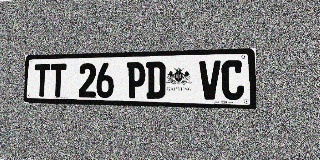2: (79, 63, 96, 98)
6: (96, 62, 114, 98)
C: (221, 60, 244, 100)
D: (146, 61, 166, 99)
P: (127, 62, 146, 98)
T: (50, 63, 66, 97), (34, 64, 50, 97)
V: (199, 60, 221, 100)
